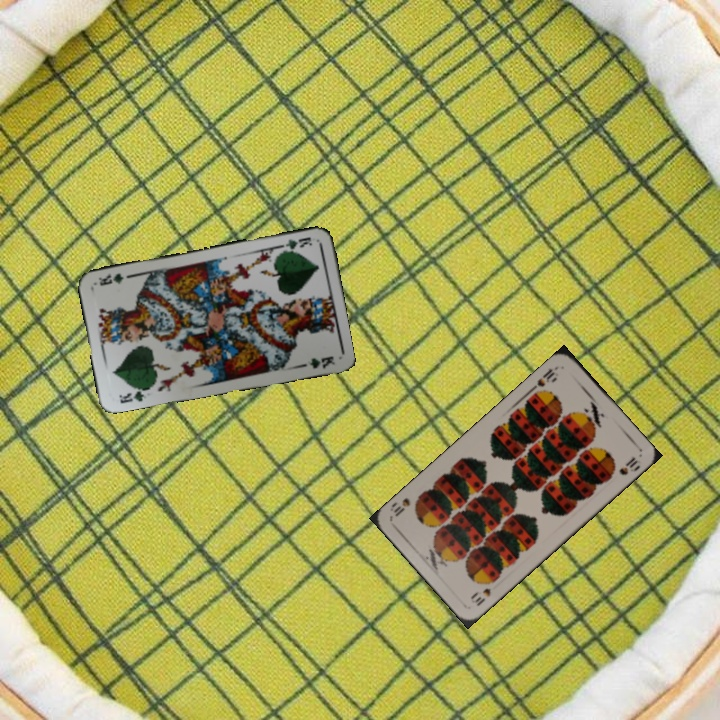GK: (115, 382, 152, 406), (277, 233, 315, 256)
S10: (467, 576, 499, 609), (528, 364, 559, 393)
